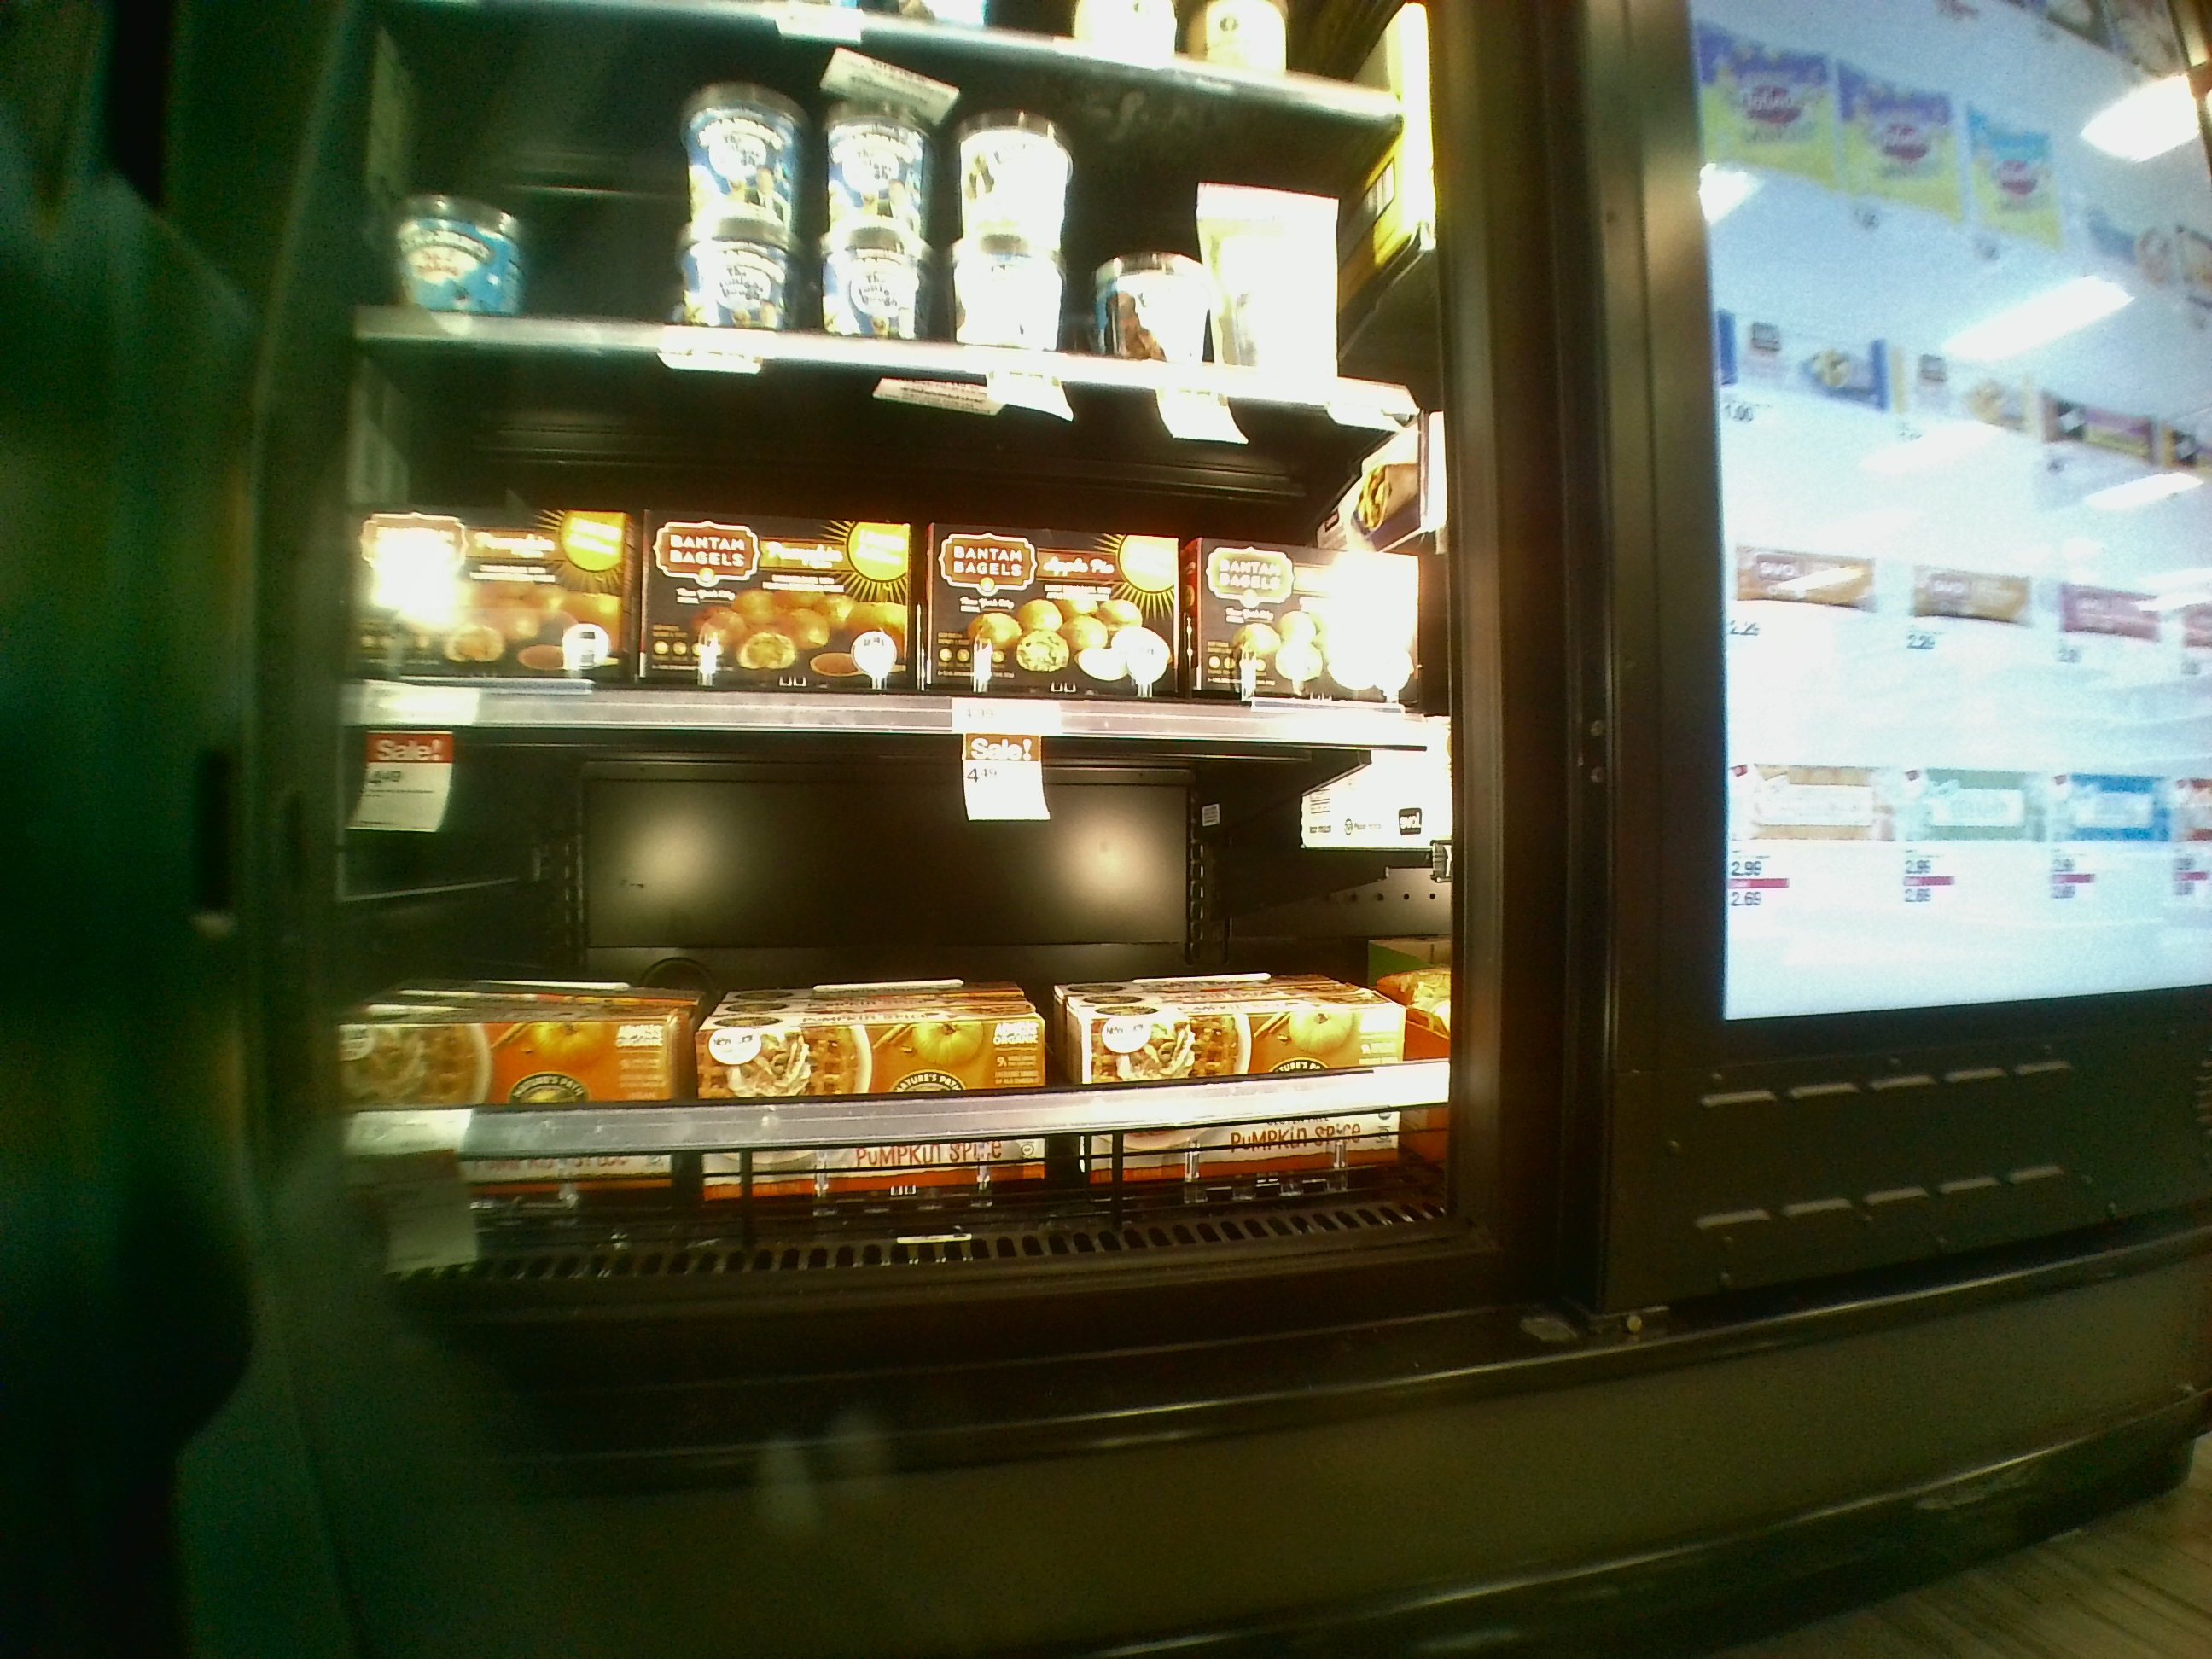shelf: (327, 716, 1489, 1276), (341, 333, 1446, 755)
